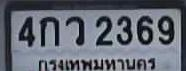2: (95, 14, 111, 45)
3: (116, 15, 131, 44)
4: (18, 15, 34, 46)
6: (136, 15, 152, 44)
9: (157, 15, 173, 44)
A01: (39, 16, 58, 46)
A37: (65, 15, 83, 45)
BKK: (35, 56, 159, 71)
